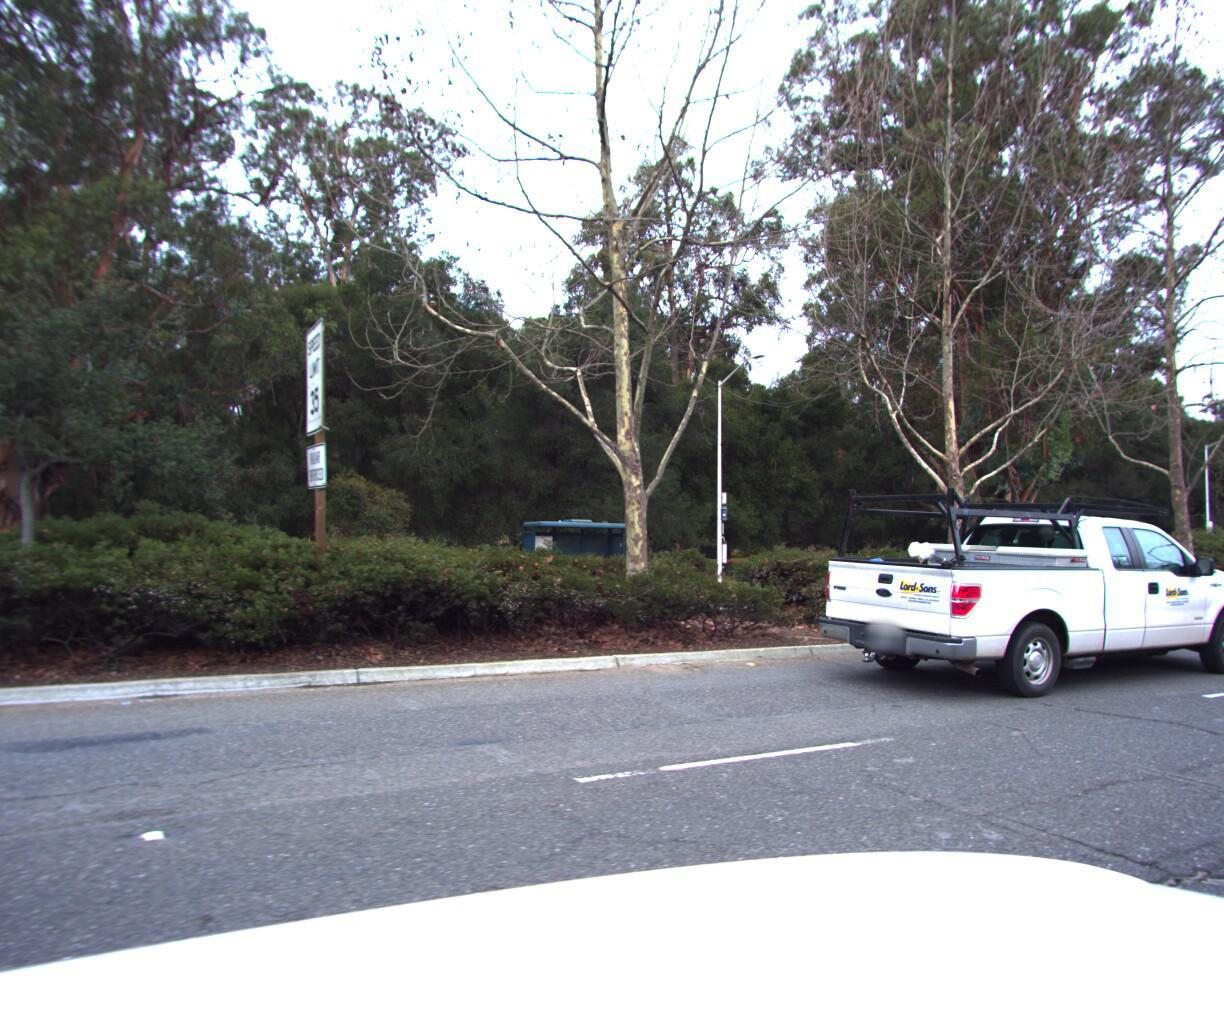car: (787, 470, 1224, 703)
